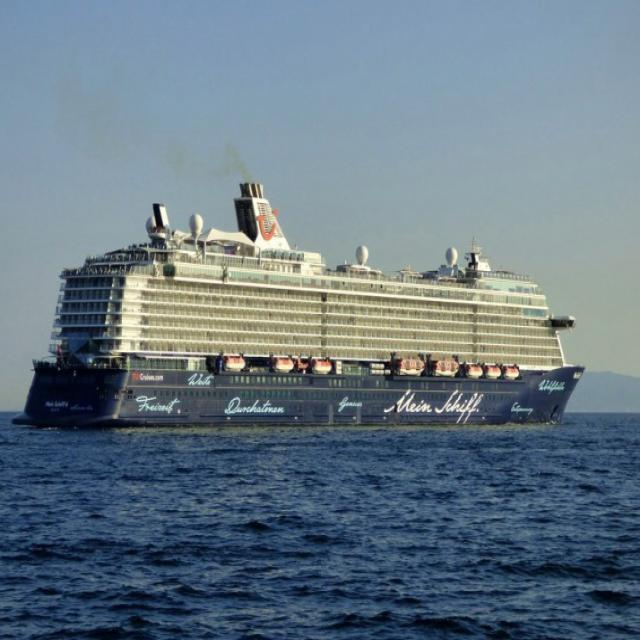cruises: (6, 172, 588, 439)
